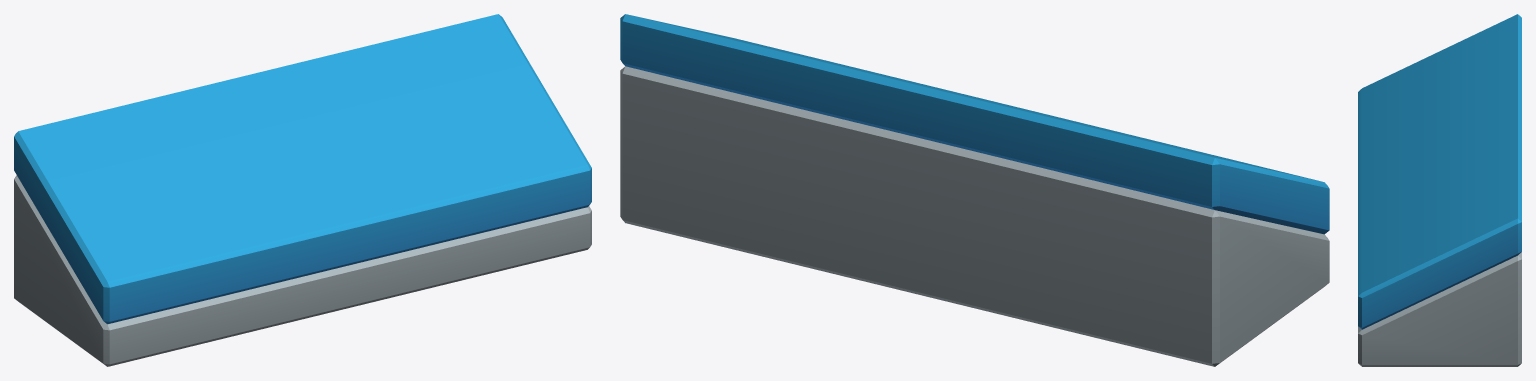
The model's file is kaykit_platform_slope_6x2x2_blue.glb.
The picture shows the model from 3 angles, left to right: view 1: azimuth 30°, elevation 25°; view 2: azimuth 150°, elevation 25°; view 3: azimuth 270°, elevation 25°; orthographic projection. The views are drawn at different scales.
Visible parts, largest first — view 1: platform_slope_6x2x2_blue_visual; view 2: platform_slope_6x2x2_blue_visual; view 3: platform_slope_6x2x2_blue_visual.
Boxes of the visible parts, <box> form: platform_slope_6x2x2_blue_visual: <box>14,14,591,366</box>; platform_slope_6x2x2_blue_visual: <box>620,14,1329,366</box>; platform_slope_6x2x2_blue_visual: <box>1358,14,1521,366</box>.
Size of what is drawn, in the model's own units: 6 by 2 by 2.
Materials: 1 (1 with a texture image).
